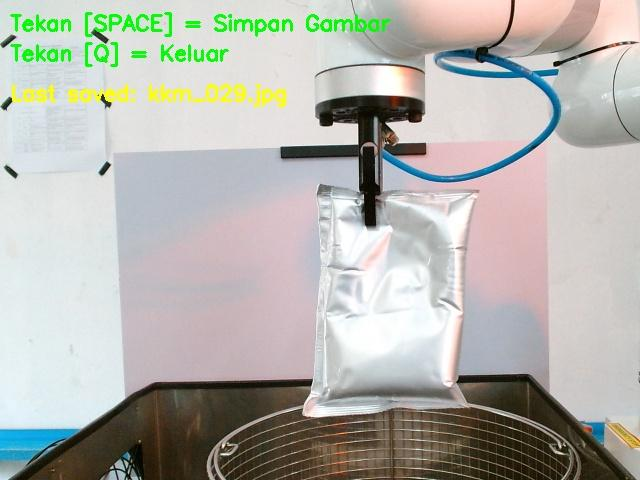retort-pouch: (302, 183, 479, 416)
